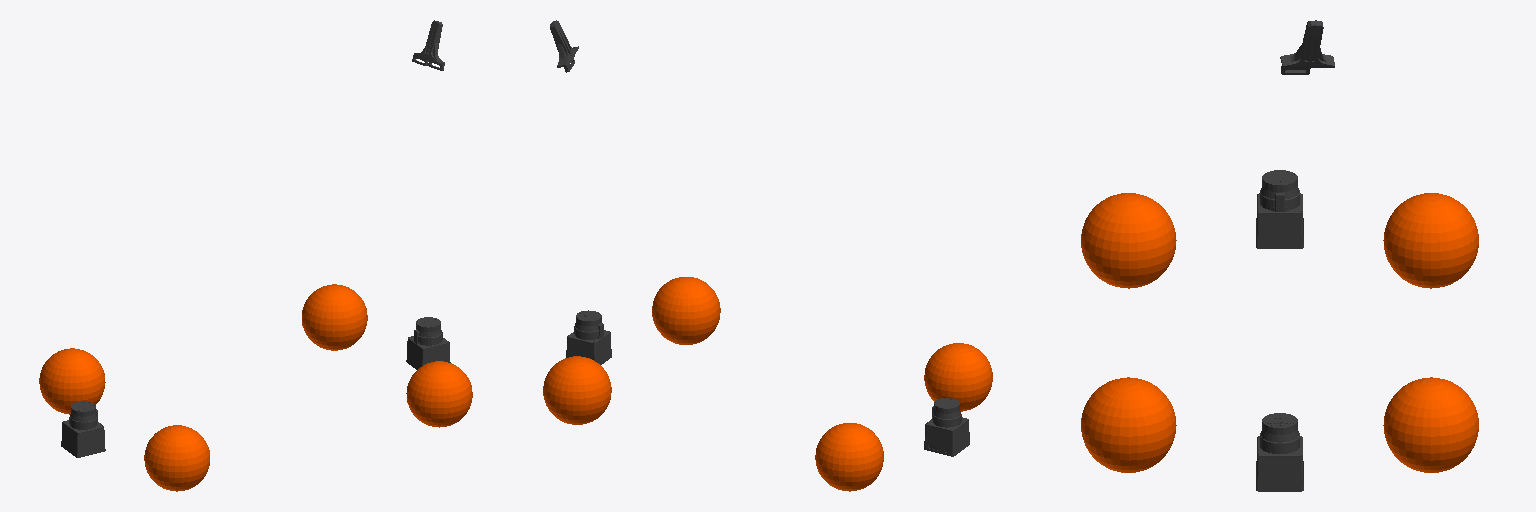
--- Facts derived from the render (not from the file) ---
3 views of the same robot in one strip: view 1: azimuth 30°, elevation 25°; view 2: azimuth 150°, elevation 25°; view 3: azimuth 270°, elevation 25° (orthographic).
Model youbot with 24 links and 23 joints (5 revolute, 8 continuous, 2 prismatic, 8 fixed), rooted at base_footprint, posed every joint at zero.
Visible links, largest first — view 1: wheel_link_fr, wheel_link_br, wheel_link_fl, wheel_link_bl, base_laser_back_link, base_laser_front_link; view 2: wheel_link_fl, wheel_link_bl, wheel_link_fr, wheel_link_br, base_laser_back_link, base_laser_front_link; view 3: wheel_link_fl, wheel_link_fr, wheel_link_bl, wheel_link_br, base_laser_front_link, base_laser_back_link, gripper_finger_link_r, gripper_finger_link_l.
Link boxes in pixels (x1,y1,x2,y2): wheel_link_fr: (406,361,472,427); wheel_link_br: (144,425,209,491); wheel_link_fl: (302,284,367,350); wheel_link_bl: (39,348,105,414); base_laser_back_link: (61,401,105,457); base_laser_front_link: (406,317,450,369); wheel_link_fl: (543,356,611,424); wheel_link_bl: (815,423,883,491); wheel_link_fr: (652,277,720,344); wheel_link_br: (924,343,992,411); base_laser_back_link: (924,398,969,456); base_laser_front_link: (566,310,611,364); wheel_link_fl: (1383,377,1478,472); wheel_link_fr: (1081,377,1176,472); wheel_link_bl: (1383,193,1478,288); wheel_link_br: (1081,193,1176,288); base_laser_front_link: (1256,413,1303,491); base_laser_back_link: (1256,170,1303,248); gripper_finger_link_r: (1280,20,1317,74); gripper_finger_link_l: (1307,21,1334,67).
Size in the robot's own frame: 0.6672 by 0.416 by 0.5665 metres.
4 mesh visuals loaded from 11 distinct referenced files (1 binary STL, 1 Collada DAE); not drawn: 9 (reference not matched to a file when rendering).

URDF robot description (youbot):
<?xml version="1.0" ?>
<!-- =================================================================================== -->
<!-- |    This document was autogenerated by xacro from youbot_RC.urdf.xacro           | -->
<!-- |    EDITING THIS FILE BY HAND IS NOT RECOMMENDED                                 | -->
<!-- =================================================================================== -->
<robot name="youbot" >
  <!-- The following included files set up definitions of parts of the robot body -->
  <!-- misc common stuff? -->
  <!-- youbot base -->
  <!-- youbot plate -->
  <!-- youbot arm -->
  <!-- youbot gripper -->
  
  <!-- materials for visualization -->
  <material name="Orange">
    <color rgba="1.0 0.4 0.0 1.0"/>
  </material>
  <material name="Grey">
    <color rgba="0.7 0.7 0.7 1.0"/>
  </material>
  <material name="DarkGrey">
    <color rgba="0.3 0.3 0.3 1.0"/>
  </material>
  <material name="White">
    <color rgba="1.0 1.0 1.0 1.0"/>
  </material>
  <material name="Black">
    <color rgba="0.0 0.0 0.0 1.0"/>
  </material>
  <material name="Red">
    <color rgba="1.0 0.0 0.0 1.0"/>
  </material>
  <material name="Green">
    <color rgba="0.0 1.0 0.0 1.0"/>
  </material>
  <!-- Now we can start using the macros included above to define the actual youbot -->
  <!-- The first use of a macro.  This one was defined in base.urdf.xacro above.
       A macro like this will expand to a set of link and joint definitions, and to additional
       Gazebo-related extensions (sensor plugins, etc).  The macro takes an argument, name, 
       that equals "base", and uses it to generate names for its component links and joints 
       (e.g., base_link).  The included origin block is also an argument to the macro.  By convention, 
       the origin block defines where the component is w.r.t its parent (in this case the parent 
       is the world frame). For more, see http://www.ros.org/wiki/xacro -->
  <!-- foot for arm-->
  <link name="base_footprint">
    <inertial>
      <mass value="0.1"/>
      <origin rpy="0 0 0" xyz="0 0 -0.05"/>
      <inertia ixx="1.0" ixy="0.0" ixz="0.0" iyy="1.0" iyz="0.0" izz="1.0"/>
    </inertial>
    <visual>
      <origin rpy="0 0 0" xyz="0 0 0"/>
      <geometry>
        <box size="0.001 0.001 0.001"/>
      </geometry>
      <material name="Red"/>
    </visual>
    <collision>
      <origin rpy="0 0 0" xyz="0 0 -0.05"/>
      <geometry>
        <box size="0.001 0.001 0.001"/>
      </geometry>
    </collision>
  </link>
  <joint name="base_footprint_joint" type="fixed">
    <origin rpy="0 0 0" xyz="0 0 0"/>
    <child link="base_link"/>
    <parent link="base_footprint"/>
  </joint>
  <link name="base_link">
    <inertial>
      <mass value="22.0"/>
      <origin xyz="0 0 0"/>
      <inertia ixx="5.652232699207" ixy="-0.009719934438" ixz="1.293988226423" iyy="5.669473158652" iyz="-0.007379583694" izz="3.683196351726"/>
    </inertial>
    <visual>
      <origin rpy="0 0 0" xyz="0 0 0"/>
      <geometry>
        <mesh filename="package://youbot_description/meshes/youbot_base/base.dae"/>
      </geometry>
      <material name="Black"/>
    </visual>
    <collision>
      <origin rpy="0 0 0" xyz="0 0 0"/>
      <geometry>
        <!--<box size="${base_size_x} ${base_size_y} ${base_size_z}" />-->
        <mesh filename="package://youbot_description/meshes/youbot_base/base_convex.dae"/>
      </geometry>
    </collision>
  </link>
  <joint name="base_laser_front_hokuyo_urg04_laser_joint" type="fixed">
    <axis xyz="0 1 0"/>
    <origin rpy="0 0 0" xyz="0.3 0 -0.03"/>
    <parent link="base_link"/>
    <child link="base_laser_front_link"/>
  </joint>
  <link name="base_laser_front_link" type="laser">
    <inertial>
      <mass value="0.16"/>
      <origin rpy="0 0 0" xyz="0 0 0"/>
      <inertia ixx="0.1" ixy="0" ixz="0" iyy="0.1" iyz="0" izz="0.1"/>
    </inertial>
    <visual>
      <origin rpy="0 0 0" xyz="0 0 0"/>
      <geometry>
        <mesh filename="package://youbot_description/meshes/sensors/hokuyo.dae"/>
      </geometry>
      <material name="DarkGrey"/>
    </visual>
    <collision>
      <origin rpy="0 0 0" xyz="0 0 0"/>
      <geometry>
        <mesh filename="package://youbot_description/meshes/sensors/hokuyo_convex.dae"/>
      </geometry>
    </collision>
  </link>  
  <joint name="base_laser_back_hokuyo_urg04_laser_joint" type="fixed">
    <axis xyz="0 1 0"/>
    <origin rpy="0 0 3.14159265359" xyz="-0.3 0 -0.03"/>
    <parent link="base_link"/>
    <child link="base_laser_back_link"/>
  </joint>
  <link name="base_laser_back_link" type="laser">
    <inertial>
      <mass value="0.16"/>
      <origin rpy="0 0 0" xyz="0 0 0"/>
      <inertia ixx="0.1" ixy="0" ixz="0" iyy="0.1" iyz="0" izz="0.1"/>
    </inertial>
    <visual>
      <origin rpy="0 0 0" xyz="0 0 0"/>
      <geometry>
        <mesh filename="package://youbot_description/meshes/sensors/hokuyo.dae"/>
      </geometry>
      <material name="DarkGrey"/>
    </visual>
    <collision>
      <origin rpy="0 0 0" xyz="0 0 0"/>
      <geometry>
        <mesh filename="package://youbot_description/meshes/sensors/hokuyo_convex.dae"/>
      </geometry>
    </collision>
  </link> 
  <joint name="caster_joint_fl" type="continuous">
    <origin rpy="0 0 0" xyz="0.228 0.158 -0.034"/>
    <axis xyz="0 0 1"/>
    <limit effort="30" velocity="10"/>
    <dynamics damping="1.0" friction="1.0"/>
    <safety_controller k_velocity="10.0"/>
    <parent link="base_link"/>
    <child link="caster_link_fl"/>
  </joint>
  <link name="caster_link_fl">
    <inertial>
      <mass value="0.1"/>
      <origin xyz="0 0 0"/>
      <inertia ixx="0.012411765597" ixy="-0.000711733678" ixz="0.00050272983" iyy="0.015218160428" iyz="-0.000004273467" izz="0.011763977943"/>
    </inertial>
  </link>
  <joint name="wheel_joint_fl" type="continuous">
    <axis xyz="0 1 0"/>
    <limit effort="30" velocity="10"/>
    <origin rpy="0 0 0" xyz="0.0 0.0 0.0"/>
    <parent link="caster_link_fl"/>
    <dynamics damping="1.0" friction="1.0"/>
    <safety_controller k_velocity="10.0"/>
    <child link="wheel_link_fl"/>
  </joint>
  <link name="wheel_link_fl">
    <inertial>
      <mass value="0.4"/>
      <origin xyz="0 0 0"/>
      <inertia ixx="0.012411765597" ixy="-0.000711733678" ixz="0.00050272983" iyy="0.015218160428" iyz="-0.000004273467" izz="0.011763977943"/>
    </inertial>
    <visual>
      <origin rpy="0 0 0" xyz="0 0 0"/>
      <!--<mesh filename="package://youbot_description/meshes/youbot_base/youbot_wheel.stl" />-->
      <geometry>
        <sphere radius="0.05"/>
      </geometry>
      <material name="Orange"/>
    </visual>
    <collision>
      <origin rpy="1.57079632679 0 0" xyz="0 0 0"/>
      <geometry>
        <cylinder length="0.05" radius="0.05"/>
      </geometry>
    </collision>
  </link>
  <joint name="caster_joint_fr" type="continuous">
    <origin rpy="0 0 0" xyz="0.228 -0.158 -0.034"/>
    <axis xyz="0 0 1"/>
    <limit effort="30" velocity="10"/>
    <dynamics damping="1.0" friction="1.0"/>
    <safety_controller k_velocity="10.0"/>
    <parent link="base_link"/>
    <child link="caster_link_fr"/>
  </joint>
  <link name="caster_link_fr">
    <inertial>
      <mass value="0.1"/>
      <origin xyz="0 0 0"/>
      <inertia ixx="0.012411765597" ixy="-0.000711733678" ixz="0.00050272983" iyy="0.015218160428" iyz="-0.000004273467" izz="0.011763977943"/>
    </inertial>
  </link>
  <joint name="wheel_joint_fr" type="continuous">
    <axis xyz="0 1 0"/>
    <limit effort="30" velocity="10"/>
    <dynamics damping="1.0" friction="1.0"/>
    <safety_controller k_velocity="10.0"/>
    <origin rpy="0 0 0" xyz="0.0 0.0 0.0"/>
    <parent link="caster_link_fr"/>
    <child link="wheel_link_fr"/>
  </joint>
  <link name="wheel_link_fr">
    <inertial>
      <mass value="0.4"/>
      <origin xyz="0 0 0"/>
      <inertia ixx="0.012411765597" ixy="-0.000711733678" ixz="0.00050272983" iyy="0.015218160428" iyz="-0.000004273467" izz="0.011763977943"/>
    </inertial>
    <visual>
      <origin rpy="0 0 0" xyz="0 0 0"/>
      <geometry>
        <!--<mesh filename="package://youbot_description/meshes/youbot_base/youbot_wheel.stl" />-->
        <sphere radius="0.05"/>
      </geometry>
      <material name="Orange"/>
    </visual>
    <collision>
      <origin rpy="1.57079632679 0 0" xyz="0 0 0"/>
      <geometry>
        <cylinder length="0.05" radius="0.05"/>
      </geometry>
    </collision>
  </link>
  <joint name="caster_joint_bl" type="continuous">
    <origin rpy="0 0 0" xyz="-0.228 0.158 -0.034"/>
    <axis xyz="0 0 1"/>
    <limit effort="30" velocity="10"/>
    <dynamics damping="1.0" friction="1.0"/>
    <safety_controller k_velocity="10.0"/>
    <parent link="base_link"/>
    <child link="caster_link_bl"/>
  </joint>
  <link name="caster_link_bl">
    <inertial>
      <mass value="0.1"/>
      <origin xyz="0 0 0"/>
      <inertia ixx="0.012411765597" ixy="-0.000711733678" ixz="0.00050272983" iyy="0.015218160428" iyz="-0.000004273467" izz="0.011763977943"/>
    </inertial>
  </link>
  <joint name="wheel_joint_bl" type="continuous">
    <axis xyz="0 1 0"/>
    <limit effort="10" velocity="10"/>
    <limit effort="30" velocity="10"/>
    <dynamics damping="1.0" friction="1.0"/>
    <safety_controller k_velocity="10.0"/>
    <origin rpy="0 0 0" xyz="0.0 0.0 0.0"/>
    <parent link="caster_link_bl"/>
    <child link="wheel_link_bl"/>
  </joint>
  <link name="wheel_link_bl">
    <inertial>
      <mass value="0.4"/>
      <origin xyz="0 0 0"/>
      <inertia ixx="0.012411765597" ixy="-0.000711733678" ixz="0.00050272983" iyy="0.015218160428" iyz="-0.000004273467" izz="0.011763977943"/>
    </inertial>
    <visual>
      <origin rpy="0 0 0" xyz="0 0 0"/>
      <geometry>
        <!--<mesh filename="package://youbot_description/meshes/youbot_base/youbot_wheel.stl" />-->
        <sphere radius="0.05"/>
      </geometry>
      <material name="Orange"/>
    </visual>
    <collision>
      <origin rpy="1.57079632679 0 0" xyz="0 0 0"/>
      <geometry>
        <cylinder length="0.05" radius="0.05"/>
      </geometry>
    </collision>
  </link>
  <joint name="caster_joint_br" type="continuous">
    <origin rpy="0 0 0" xyz="-0.228 -0.158 -0.034"/>
    <axis xyz="0 0 1"/>
    <limit effort="30" velocity="10"/>
    <dynamics damping="1.0" friction="1.0"/>
    <safety_controller k_velocity="10.0"/>
    <parent link="base_link"/>
    <child link="caster_link_br"/>
  </joint>
  <link name="caster_link_br">
    <inertial>
      <mass value="0.1"/>
      <origin xyz="0 0 0"/>
      <inertia ixx="0.012411765597" ixy="-0.000711733678" ixz="0.00050272983" iyy="0.015218160428" iyz="-0.000004273467" izz="0.011763977943"/>
    </inertial>
  </link>
  <joint name="wheel_joint_br" type="continuous">
    <axis xyz="0 1 0"/>
    <limit effort="30" velocity="10"/>
    <dynamics damping="1.0" friction="1.0"/>
    <safety_controller k_velocity="10.0"/>
    <origin rpy="0 0 0" xyz="0.0 0.0 0.0"/>
    <parent link="caster_link_br"/>
    <child link="wheel_link_br"/>
  </joint>
  <link name="wheel_link_br">
    <inertial>
      <mass value="0.4"/>
      <origin xyz="0 0 0"/>
      <inertia ixx="0.012411765597" ixy="-0.000711733678" ixz="0.00050272983" iyy="0.015218160428" iyz="-0.000004273467" izz="0.011763977943"/>
    </inertial>
    <visual>
      <origin rpy="0 0 0" xyz="0 0 0"/>
      <geometry>
        <!--<mesh filename="package://youbot_description/meshes/youbot_base/youbot_wheel.stl" />-->
        <sphere radius="0.05"/>
      </geometry>
      <material name="Orange"/>
    </visual>
    <collision>
      <origin rpy="1.57079632679 0 0" xyz="0 0 0"/>
      <geometry>
        <cylinder length="0.05" radius="0.05"/>
      </geometry>
    </collision>
  </link>  
  <joint name="plate_joint" type="fixed">
    <origin rpy="0 0 0" xyz="-0.039 0 0.064"/>
    <parent link="base_link"/>
    <child link="plate_link"/>
  </joint>
  <link name="plate_link">
    <inertial>
      <origin rpy="0 0 0" xyz="0 0 0"/>
      <mass value="1"/>
      <inertia ixx="0.01" ixy="0" ixz="0" iyy="0.01" iyz="0" izz="0.01"/>
    </inertial>
    <visual>
      <origin rpy="0 0 0" xyz="0 0 0"/>
      <geometry>
        <mesh filename="package://youbot_description/meshes/youbot_plate/plate.dae"/>
      </geometry>
      <material name="DarkGrey"/>
    </visual>
    <collision>
      <origin rpy="0 0 0" xyz="0 0 0"/>
      <geometry>
        <mesh filename="package://youbot_description/meshes/youbot_plate/plate_convex.dae"/>
      </geometry>
    </collision>
  </link>
  <joint name="arm_joint_0" type="fixed">
    <origin rpy="0 0 0.576" xyz="0.258 0 0.066"/>
    <parent link="base_link"/>
    <child link="arm_link_0"/>
  </joint>
  <link name="arm_link_0">
    <inertial>
      <!--<origin xyz="0.023 0 0.006" rpy="0 0 0"/>-->
      <origin rpy="0 0 0" xyz="0 0 0"/>
      <mass value="0.845"/>
      <inertia ixx="0.01" ixy="0" ixz="0" iyy="0.01" iyz="0" izz="0.01"/>
    </inertial>
    <visual>
      <origin rpy="0 0 0" xyz="0 0 0"/>
      <geometry>
        <mesh filename="package://youbot_description/meshes/youbot_arm/arm0.dae"/>
      </geometry>
      <material name="DarkGrey"/>
    </visual>
    <collision>
      <!--<origin xyz="0.023 0 0.006" rpy="0 0 0"/>-->
      <origin rpy="0 0 0" xyz="0 0 0"/>
      <geometry>
        <mesh filename="package://youbot_description/meshes/youbot_arm/arm0_convex.dae"/>
        <!--<cylinder length="0.078" radius="0.093"/>-->
      </geometry>
    </collision>
  </link>
  <joint name="arm_joint_1" type="revolute">
    <origin rpy="0 0 2.96705972839" xyz="0.024 0 0.096"/>
    <parent link="arm_link_0"/>
    <child link="arm_link_1"/>
    <axis xyz="0 0 -1"/>
    <!--<calibration rising="${arm_1_ref}" falling="${arm_1_ref}"/>-->
    <dynamics damping="1" friction="1"/>
    <!-- damping - N*s/m, N*s*m/rad -->
    <!-- friction - N, N*m -->
    <limit effort="9.5" lower="0" upper="5.89921287174" velocity="1.57079632679"/>
    <!--effort - N, N*m-->
    <!--velocity - m/s, rad/s-->
    <safety_controller k_position="20" k_velocity="1.51197195937" soft_lower_limit="0.001" soft_upper_limit="5.89821287174"/>
    <!--k_position N/m, N/rad-->
    <!--k_velocity N*s/m, N*s*m/rad-->
    <!--for details: http://www.ros.org/wiki/pr2_controller_manager/safety_limits-->
  </joint>
  <link name="arm_link_1">
    <inertial>
      <mass value="2.412"/>
      <origin rpy="0 0 0" xyz="0.01489 0.00213 0.00213"/>
      <inertia ixx="0.003863" ixy="-0.000979" ixz="0.000000" iyy="0.006196" iyz="0.000000" izz="0.006369"/>
    </inertial>
    <visual>
      <origin rpy="0 0 0" xyz="0 0 0"/>
      <geometry>
        <mesh filename="package://youbot_description/meshes/youbot_arm/arm1.dae"/>
      </geometry>
      <!--<material name="Orange" />-->
    </visual>
    <collision>
      <!--<origin xyz="0 0 -0.003" rpy="0 0 0" />-->
      <origin rpy="0 0 0" xyz="0 0 0"/>
      <geometry>
        <mesh filename="package://youbot_description/meshes/youbot_arm/arm1_convex.dae"/>
        <!--<cylinder length="0.102" radius="0.080"/>-->
      </geometry>
    </collision>
  </link>
  <joint name="arm_joint_2" type="revolute">
    <origin rpy="0 -1.1344640138 0" xyz="0.033 0 0.019"/>
    <parent link="arm_link_1"/>
    <child link="arm_link_2"/>
    <axis xyz="0 1 0"/>
    <!--<calibration rising="${arm_2_ref}" falling="${arm_2_ref}"/>-->
    <dynamics damping="1" friction="1"/>
    <limit effort="9.5" lower="0" upper="2.70526034059" velocity="1.57079632679"/>
    <safety_controller k_position="20" k_velocity="6.04788783749" soft_lower_limit="0.001" soft_upper_limit="2.70426034059"/>
  </joint>
  <link name="arm_link_2">
    <inertial>
      <mass value="1.155"/>
      <origin rpy="0 0 0" xyz="0.10453 0.0017 -0.00297"/>
      <inertia ixx="0.000823" ixy="0.000000" ixz="-0.000000" iyy="0.004447" iyz="0.000000" izz="0.004439"/>
    </inertial>
    <visual>
      <origin rpy="0 0 0" xyz="0 -0.032 0.078"/>
      <geometry>
        <mesh filename="package://youbot_description/meshes/youbot_arm/arm2.dae"/>
      </geometry>
      <material name="Orange"/>
    </visual>
    <collision>
      <!--<origin xyz="0.001 -0.041 0.074" rpy="0 0 0" />-->
      <origin rpy="0 0 0" xyz="0 -0.032 0.078"/>
      <geometry>
        <mesh filename="package://youbot_description/meshes/youbot_arm/arm2_convex.dae"/>
        <!--<box size="0.074 0.082 0.222"/>-->
      </geometry>
    </collision>
  </link>
  <joint name="arm_joint_3" type="revolute">
    <origin rpy="0 2.54818070791 0" xyz="0.000 0.000 0.155"/>
    <parent link="arm_link_2"/>
    <child link="arm_link_3"/>
    <axis xyz="0 1 0"/>
    <dynamics damping="1" friction="1"/>
    <limit effort="6.0" lower="-5.18362787842" upper="0" velocity="1.57079632679"/>
    <safety_controller k_position="20" k_velocity="50" soft_lower_limit="-5.18262787842" soft_upper_limit="-0.001"/>
  </joint>
  <link name="arm_link_3">
    <inertial>
      <mass value="0.934"/>
      <origin rpy="0 0 0" xyz="0.0001 0.0967 0.02107"/>
      <inertia ixx="0.002459" ixy="0.000000" ixz="0.000000" iyy="0.002571" iyz="-0.000000" izz="0.000535"/>
    </inertial>
    <visual>
      <origin rpy="0 0 0" xyz="0.000 0.028 0.079"/>
      <geometry>
        <mesh filename="package://youbot_description/meshes/youbot_arm/arm3.dae"/>
      </geometry>
      <material name="Orange"/>
    </visual>
    <collision>
      <!--<origin xyz="0.000 0.025 0.067" rpy="0 0 0" />-->
      <origin rpy="0 0 0" xyz="0.000 0.028 0.079"/>
      <geometry>
        <mesh filename="package://youbot_description/meshes/youbot_arm/arm3_convex.dae"/>
        <!--<box size="0.064 0.054 0.192"/>-->
      </geometry>
    </collision>
  </link>
  <joint name="arm_joint_4" type="revolute">
    <origin rpy="0 -1.78896248329 0" xyz="0.000 0.000 0.135"/>
    <parent link="arm_link_3"/>
    <child link="arm_link_4"/>
    <axis xyz="0 1 0"/>
    <!--<calibration rising="${arm_4_ref}" falling="${arm_4_ref}"/>-->
    <dynamics damping="1" friction="1"/>
    <limit effort="2.0" lower="0" upper="3.57792496659" velocity="1.57079632679"/>
    <safety_controller k_position="20" k_velocity="100" soft_lower_limit="0" soft_upper_limit="3.57692496659"/>
  </joint>
  <link name="arm_link_4">
    <inertial>
      <mass value="0.877"/>
      <origin rpy="0 0 0" xyz="0.00011 0.05103 -0.02319"/>
      <inertia ixx="0.000869" ixy="0.000000" ixz="-0.000000" iyy="0.001173" iyz="-0.000231" izz="0.001091"/>
    </inertial>
    <visual>
      <origin rpy="0 0 0" xyz="0 -0.010 0.029"/>
      <geometry>
        <mesh filename="package://youbot_description/meshes/youbot_arm/arm4.dae"/>
      </geometry>
      <material name="Orange"/>
    </visual>
    <collision>
      <!--<origin xyz="0 0 0.026" rpy="0 0 0" />-->
      <origin rpy="0 0 0" xyz="0 -0.010 0.029"/>
      <geometry>
        <mesh filename="package://youbot_description/meshes/youbot_arm/arm4_convex.dae"/>
        <!--<box size="0.058 0.100 0.118"/>-->
      </geometry>
    </collision>
  </link>
  <joint name="arm_joint_5" type="revolute">
    <origin rpy="0 0 2.92342649709" xyz="-0.002 0 0.130"/>
    <parent link="arm_link_4"/>
    <child link="arm_link_5"/>
    <axis xyz="0 0 -1"/>
    <!--<calibration rising="${arm_5_ref}" falling="${arm_5_ref}"/>-->
    <dynamics damping="1" friction="1"/>
    <limit effort="1" lower="0" upper="5.84685299418" velocity="1.57079632679"/>
    <safety_controller k_position="20" k_velocity="100" soft_lower_limit="0" soft_upper_limit="5.84585299418"/>
  </joint>
  <link name="arm_link_5">
    <inertial>
      <mass value="0.251"/>
      <origin rpy="0 0 0" xyz="0.0 0.00115 -0.01683"/>
      <inertia ixx="0.000280" ixy="0.000000" ixz="0.000000" iyy="0.000339" iyz="0.000000" izz="0.000119"/>
    </inertial>
    <visual>
      <origin rpy="0 0 0" xyz="0.003 0 -0.034"/>
      <geometry>
        <mesh filename="package://youbot_description/meshes/youbot_arm/arm5.dae"/>
      </geometry>
      <material name="DarkGrey"/>
    </visual>
    <collision>
      <origin rpy="0 0 0" xyz="0.003 0 -0.034"/>
      <geometry>
        <mesh filename="package://youbot_description/meshes/youbot_arm/arm5_convex.dae"/>
        <!--<box size="0.054 0.096 0.030"/>-->
      </geometry>
    </collision>
  </link>  
  <joint name="gripper_palm_joint" type="fixed">
    <origin rpy="0 0 0" xyz="0 0 0"/>
    <parent link="arm_link_5"/>
    <child link="gripper_palm_link"/>
  </joint>
  <link name="gripper_palm_link">
    <inertial>
      <origin rpy="0 0 0" xyz="0 0 0"/>
      <mass value="0.1"/>
      <inertia ixx="0.01" ixy="0" ixz="0" iyy="0.01" iyz="0" izz="0.01"/>
    </inertial>
    <visual>
      <origin rpy="0 -1.57079632679 1.57079632679" xyz="0 0 -0.0139"/>
      <geometry>
        <mesh filename="package://youbot_description/meshes/youbot_gripper/palm.STL"/>
      </geometry>
      <material name="Black"/>
    </visual>
    <collision>
      <origin rpy="0 0 0" xyz="0.003 0 0.01"/>
      <geometry>
        <box size="0.05 0.09 0.065"/>
        <!--<mesh filename="package://youbot_description/meshes/youbot_gripper/palm.STL" />-->
      </geometry>
    </collision>
  </link>
  <joint name="gripper_finger_joint_l" type="prismatic">
    <origin rpy="0 0 0" xyz="0.004 -0.002 0.046"/>
    <parent link="gripper_palm_link"/>
    <child link="gripper_finger_link_l"/>
    <axis xyz="0 1 0"/>
    <dynamics damping="1.0" friction="1.0"/>
    <limit effort="1" lower="0" upper="0.0115" velocity="0.1"/>
    <safety_controller k_position="20" k_velocity="25" soft_lower_limit="0.001" soft_upper_limit="0.011"/>
  </joint>
  <link name="gripper_finger_link_l">
    <inertial>
      <origin rpy="0 0 0" xyz="0 0.00 0"/>
      <mass value="0.01"/>
      <inertia ixx="0.01" ixy="0" ixz="0" iyy="0.01" iyz="0" izz="0.01"/>
    </inertial>
    <visual>
      <origin rpy="0 -1.57079632679 0" xyz="0.0078 0 -0.0144"/>
      <!---->
      <geometry>
        <!--<box size="0.014 0.020 0.068"/>-->
        <mesh filename="package://youbot_description/meshes/youbot_gripper/finger.STL"/>
      </geometry>
      <material name="DarkGrey"/>
    </visual>
    <collision>
      <origin rpy="0 0 0" xyz="0.0007 0.0105 0.0185"/>
      <geometry>
        <box size="0.014 0.020 0.068"/>
        <!--<mesh filename="package://youbot_description/meshes/youbot_gripper/finger.STL" />-->
      </geometry>
    </collision>
  </link>
  <joint name="gripper_finger_joint_r" type="prismatic">
    <origin rpy="0 0 3.14159265359" xyz="0.004 0.002 0.046"/>
    <parent link="gripper_palm_link"/>
    <child link="gripper_finger_link_r"/>
    <axis xyz="0 1 0"/>
    <dynamics damping="1.0" friction="1.0"/>
    <limit effort="1" lower="0" upper="0.0115" velocity="0.1"/>
    <safety_controller k_position="20" k_velocity="25" soft_lower_limit="0.001" soft_upper_limit="0.011"/>
  </joint>
  <link name="gripper_finger_link_r">
    <inertial>
      <origin rpy="0 0 0" xyz="0.000 -0.001 0"/>
      <mass value="0.01"/>
      <inertia ixx="0.01" ixy="0" ixz="0" iyy="0.01" iyz="0" izz="0.01"/>
    </inertial>
    <visual>
      <origin rpy="0 -1.57079632679 0" xyz="0.0077 0 -0.0144"/>
      <!-- -->
      <geometry>
        <!--<box size="0.014 0.020 0.068"/>-->
        <mesh filename="package://youbot_description/meshes/youbot_gripper/finger.STL"/>
      </geometry>
      <material name="DarkGrey"/>
    </visual>
    <collision>
      <origin rpy="0 0 0" xyz="0.0007 0.0105 0.0185"/>
      <geometry>
        <box size="0.014 0.020 0.068"/>
        <!--<mesh filename="package://youbot_description/meshes/youbot_gripper/finger.STL" />-->
      </geometry>
    </collision>
  </link>
  <joint name="gripper_tip_joint" type="fixed">
    <origin rpy="0.0 -1.57079632679 0.0" xyz="0.004 0 0.1"/>
    <parent link="gripper_palm_link"/>
    <child link="gripper_tip"/>
  </joint>
  <link name="gripper_tip">
    <inertial>
      <mass value="0.001"/>
      <origin xyz="0 0 0"/>
      <inertia ixx="0.001" ixy="0.0" ixz="0.0" iyy="0.001" iyz="0.0" izz="0.001"/>
    </inertial>
  </link>
  <joint name="usb_cam_joint" type="fixed">
    <origin rpy="1.49224 3.09978 1.5769" xyz="-0.0417 -0.0078 0.0207"/>
    <!--<origin xyz="-0.0928 -0.0117 0.0431" rpy="1.50579 2.83312 1.6295" />-->
    <!--<origin xyz="-0.02476 -0.0244 0.0125" rpy="2.67678 3.15999 3.05878" /> -->
    <parent link="gripper_tip"/>
    <child link="usb_cam"/>
  </joint>
  <link name="usb_cam">
    <inertial>
      <mass value="0.001"/>
      <origin xyz="0 0 0"/>
      <inertia ixx="0.001" ixy="0.0" ixz="0.0" iyy="0.001" iyz="0.0" izz="0.001"/>
    </inertial>
  </link>  
  <!--
  <xacro:asus_xtion_camera name="openni" parent="arm_sensor_angle_part2_link"  tilt="0.0">
    <origin xyz="0.01 0.0 0.0" rpy="${M_PI} 0.0 ${M_PI}" />
  </xacro:asus_xtion_camera> 
-->
</robot>
